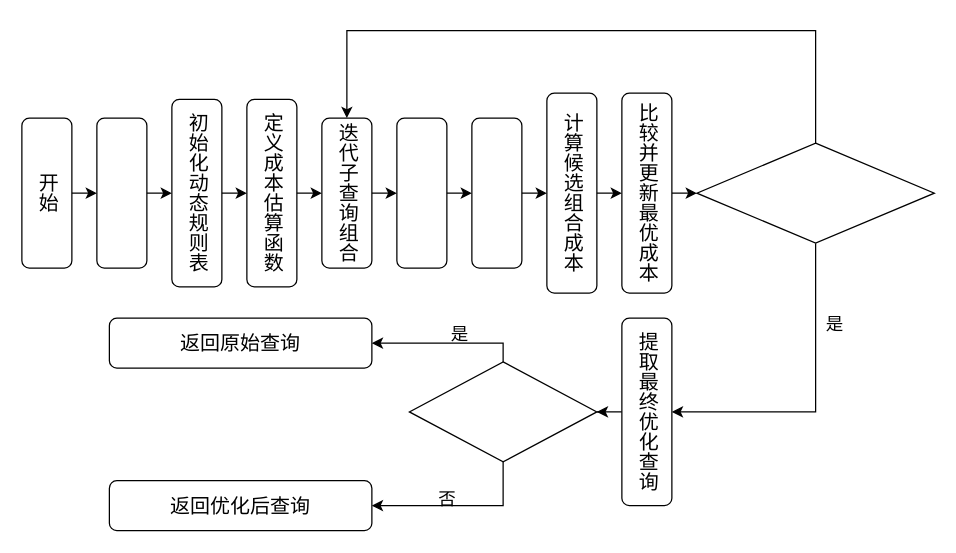
Some shapes in this 956 by 553 pixel diagram are drawn without their labels. Each missing label, with the centre of its shape:
优化查询为空？: the point at 502,411
拆分查询: the point at 121,192
生成候选组合: the point at 496,192
评估子组合: the point at 421,192
遍历完所有查询组合？: the point at 815,192
